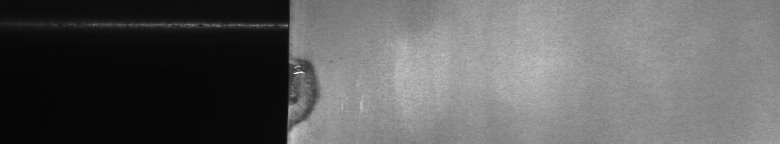hb: (300, 49, 363, 132)
